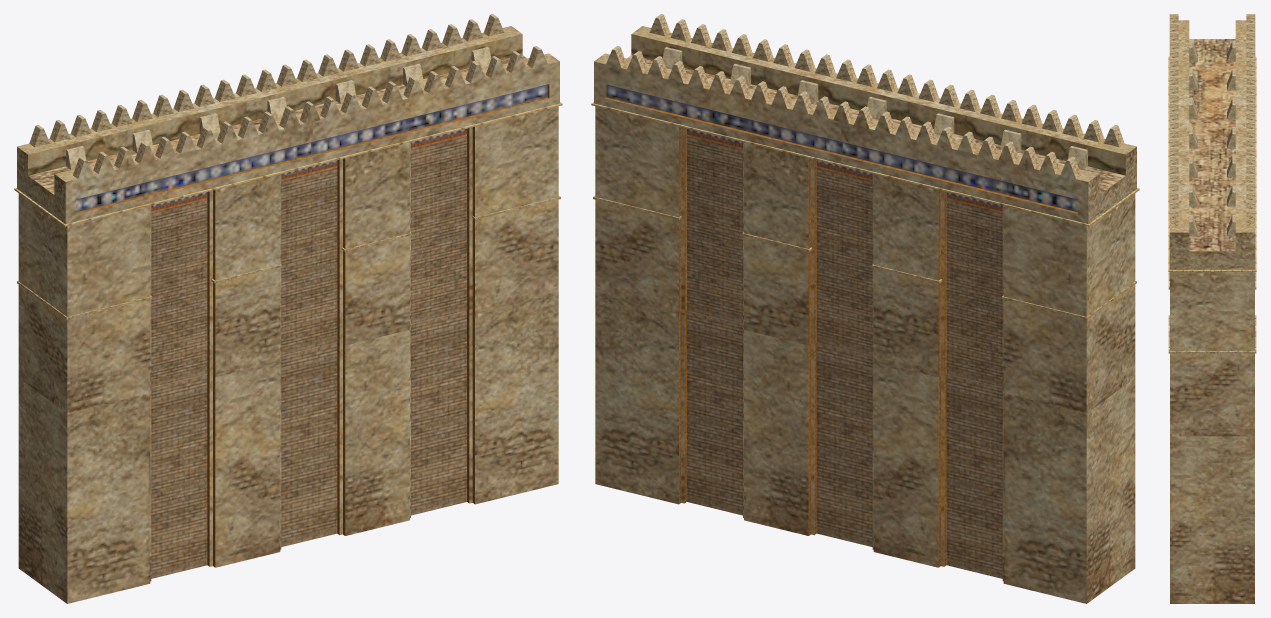
File: pers_wall_segment.glb
3 renders of one model, left to right at view 1: azimuth 30°, elevation 25°; view 2: azimuth 150°, elevation 25°; view 3: azimuth 270°, elevation 25°, orthographic. The views are drawn at different scales.
Parts seen in each view (by area): view 1: pers_wall_segment_part0; view 2: pers_wall_segment_part0; view 3: pers_wall_segment_part0.
Part boxes in pixels (x1,y1,x2,y2): pers_wall_segment_part0: (14, 14, 562, 603); pers_wall_segment_part0: (591, 14, 1139, 603); pers_wall_segment_part0: (1168, 14, 1256, 603).
Size of the model in its own units: 2 by 1.68 by 0.3489.
Materials: 1 (1 with a texture image).
